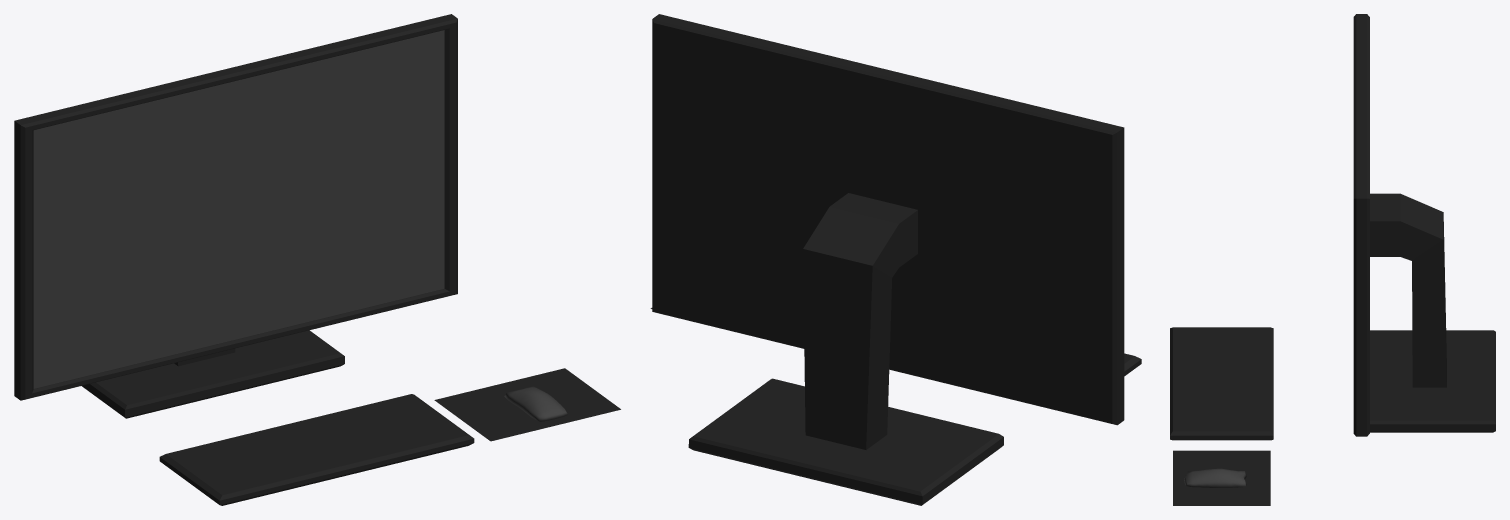
The model's file is PC_Station.fbx.
3 views of the same model, side by side, from view 1: azimuth 30°, elevation 25°; view 2: azimuth 150°, elevation 25°; view 3: azimuth 270°, elevation 25° (orthographic). The views are drawn at different scales.
Parts seen in each view (by area): view 1: PC_Screen, Keyboard, MousePad, Mouse; view 2: PC_Screen; view 3: PC_Screen, Keyboard, MousePad, Mouse.
Boxes of the visible parts, <box> form: PC_Screen: <box>14,14,457,418</box>; Keyboard: <box>159,394,474,505</box>; MousePad: <box>434,368,620,441</box>; Mouse: <box>504,386,567,421</box>; PC_Screen: <box>652,14,1124,505</box>; PC_Screen: <box>1353,14,1495,436</box>; Keyboard: <box>1170,327,1273,440</box>; MousePad: <box>1173,450,1270,505</box>; Mouse: <box>1184,468,1246,487</box>.
Size of the model in its own units: 66.45 by 42.02 by 43.83.
1 material, 1 textured.
